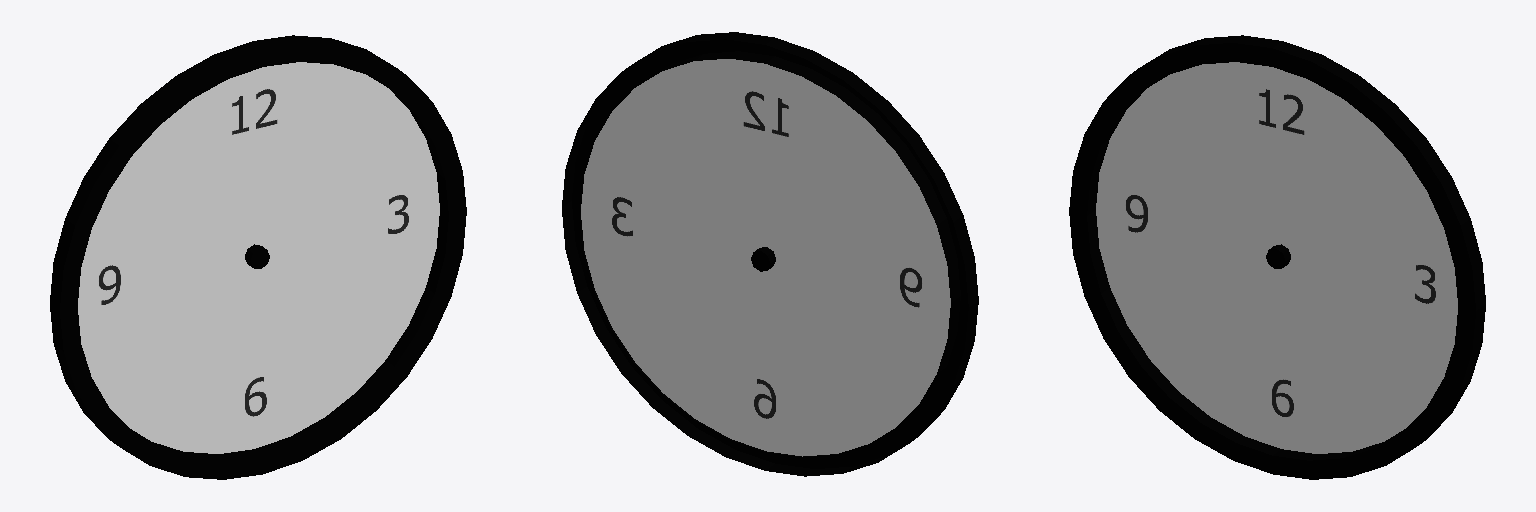
3 views of the same model, side by side, from view 1: azimuth 30°, elevation 25°; view 2: azimuth 150°, elevation 25°; view 3: azimuth 330°, elevation 25° (orthographic).
Parts seen in each view (by area): view 1: Circle, Circle.001; view 2: Circle, Circle.001; view 3: Circle, Circle.001.
Part boxes in pixels (x1,y1,x2,y2): Circle: (78,62,439,453); Circle.001: (50,35,466,479); Circle: (581,59,950,456); Circle.001: (562,32,978,476); Circle: (1096,62,1457,453); Circle.001: (1069,35,1485,479).
Bounding box in the file's own units: 2 × 2 × 0.1249.
2 materials, 1 textured.